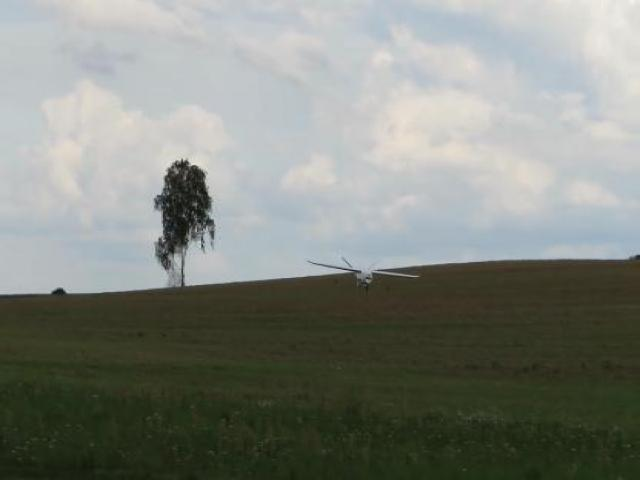uav: (306, 256, 422, 285)
